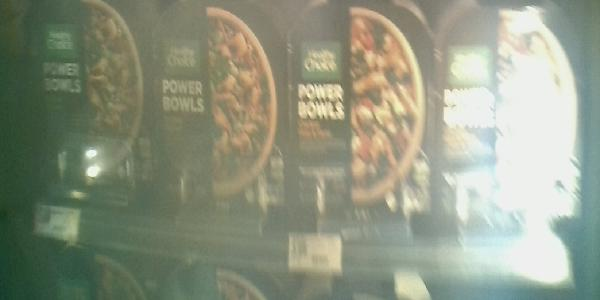pizza1: (288, 4, 435, 236), (152, 1, 289, 224), (13, 1, 151, 212)
